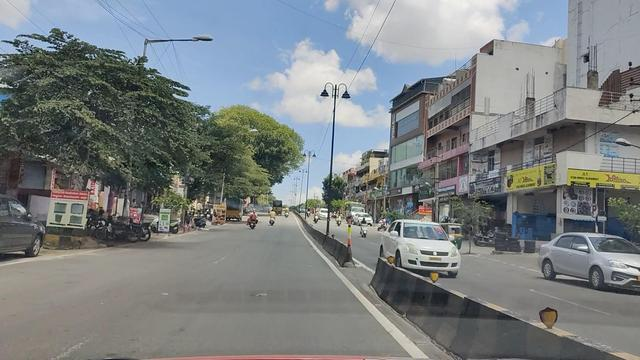LMV: (380, 214, 453, 278)
